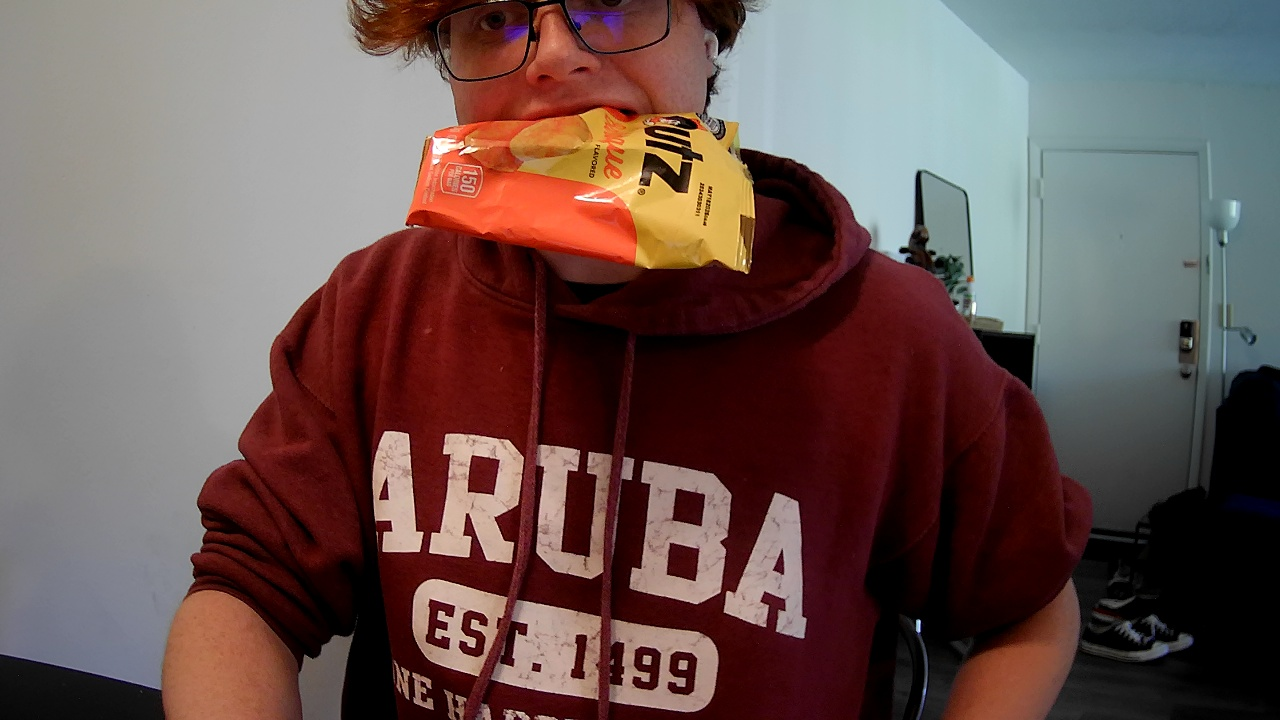trash: (396, 100, 783, 288)
